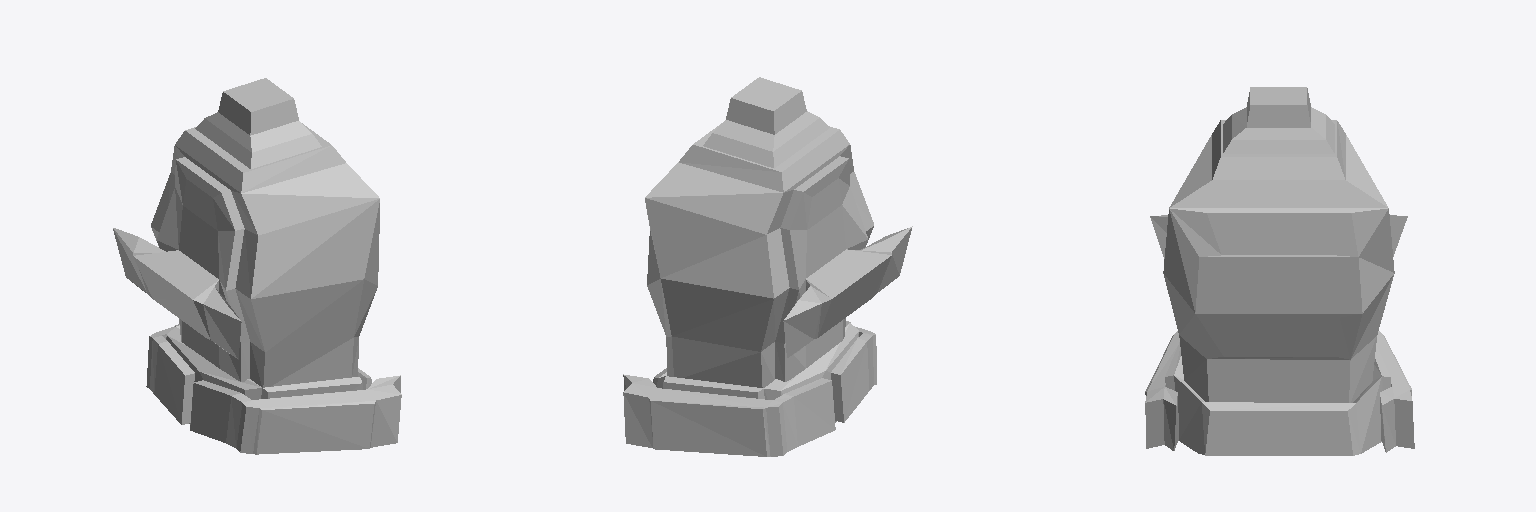
Rendered from chest.obj.
3 renders of one model, left to right at view 1: azimuth 30°, elevation 25°; view 2: azimuth 150°, elevation 25°; view 3: azimuth 270°, elevation 25°, orthographic.
Visible parts, largest first — view 1: chest1:pCube1; view 2: chest1:pCube1; view 3: chest1:pCube1.
Part boxes in pixels (x1,y1,x2,y2): chest1:pCube1: (113,78,401,454); chest1:pCube1: (623,77,912,456); chest1:pCube1: (1145,87,1414,455).
Bounding box in the file's own units: 1.05 × 1.74 × 1.31.